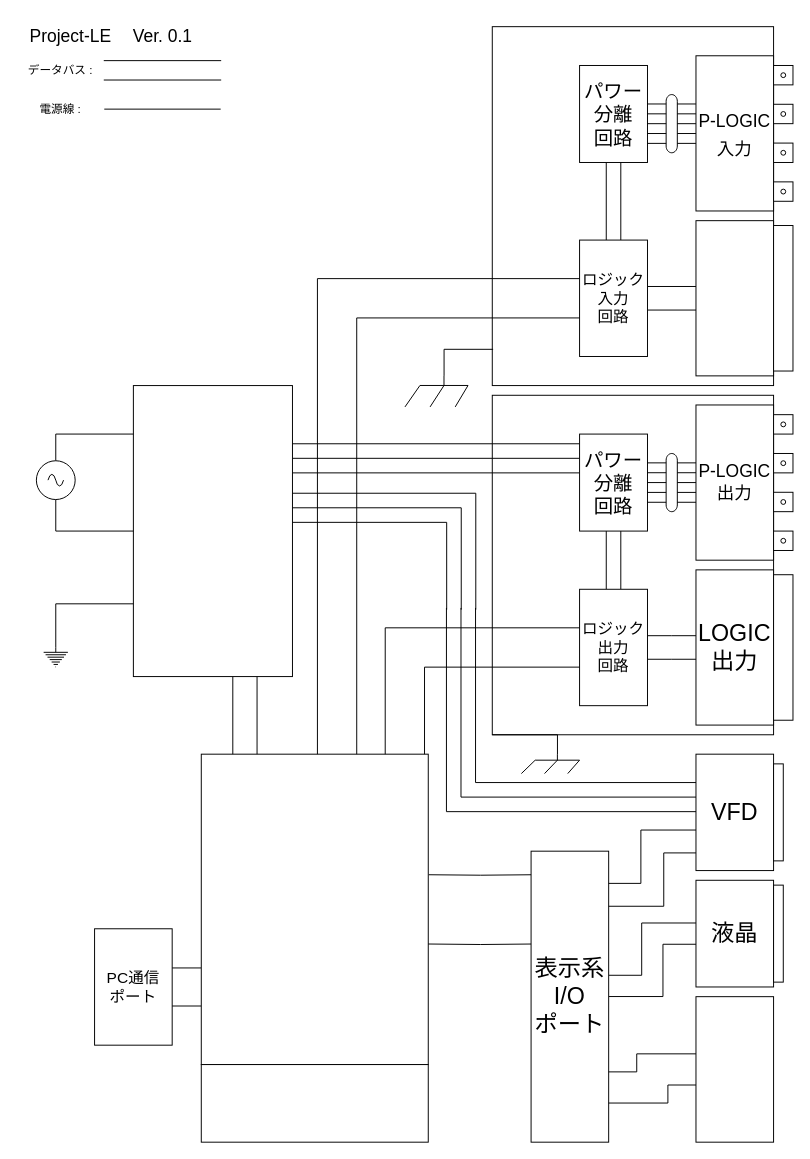
Some shapes in this 810 by 1159 pixel diagram are drawn without their labels. The box of each missing label's shape, as (x1, y1, x2, y2) in pixels:
CPU: (200, 753, 428, 1065)
LOGIC 入力: (695, 220, 774, 376)
ROM: (200, 1064, 428, 1142)
ボタン類: (695, 996, 774, 1142)
電源: (132, 385, 292, 677)
